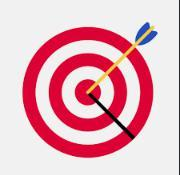target_red: (21, 25, 154, 158)
